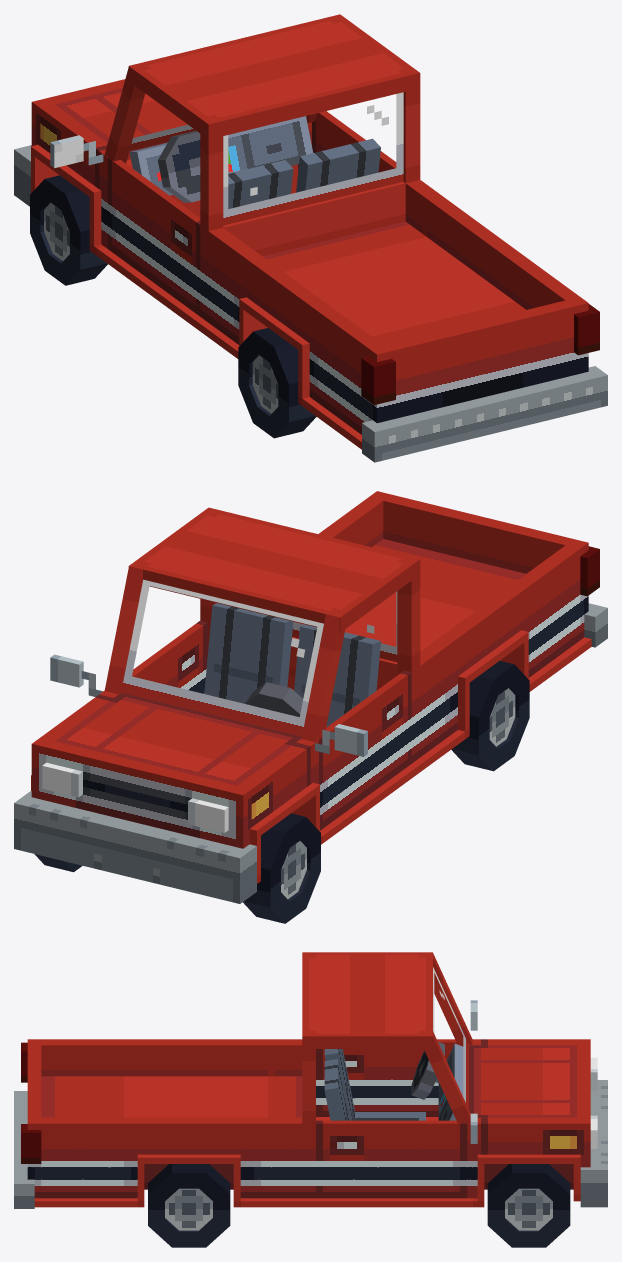
The model's file is pickup-red.gltf.
3 views of the same model, one above another, from view 1: azimuth 30°, elevation 25°; view 2: azimuth 150°, elevation 25°; view 3: azimuth 270°, elevation 25° (orthographic). The views are drawn at different scales.
Visible parts, largest first — view 1: cube, tube; view 2: cube, tube; view 3: cube, tube.
Part boxes in pixels (x1,y1,x2,y2): cube: (14,14,607,462); tube: (30,175,316,438); cube: (14,491,607,903); tube: (34,661,529,923); cube: (14,952,607,1230); tube: (148,1164,570,1247).
Bounding box in the file's own units: 2.15 × 1.65 × 4.32.
Materials: 2 (2 with a texture image).
